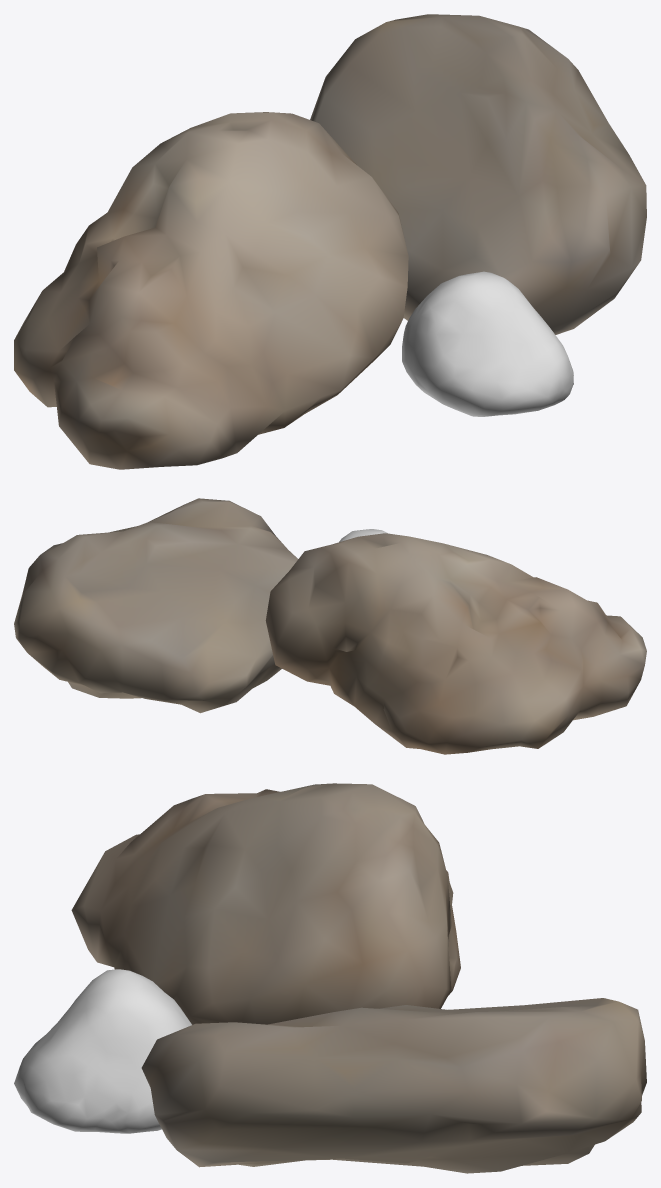
File: Rock.001.glb
3 renders of one model, top to bottom at view 1: azimuth 30°, elevation 25°; view 2: azimuth 150°, elevation 25°; view 3: azimuth 270°, elevation 25°, orthographic. The views are drawn at different scales.
Visible parts, largest first — view 1: Rock.001_Baked; view 2: Rock.001_Baked; view 3: Rock.001_Baked.
Part boxes in pixels (<box>): Rock.001_Baked: <box>14,14,646,469</box>; Rock.001_Baked: <box>14,498,646,754</box>; Rock.001_Baked: <box>14,783,646,1173</box>.
Size of the model in its own units: 1.91 by 0.6858 by 1.53.
